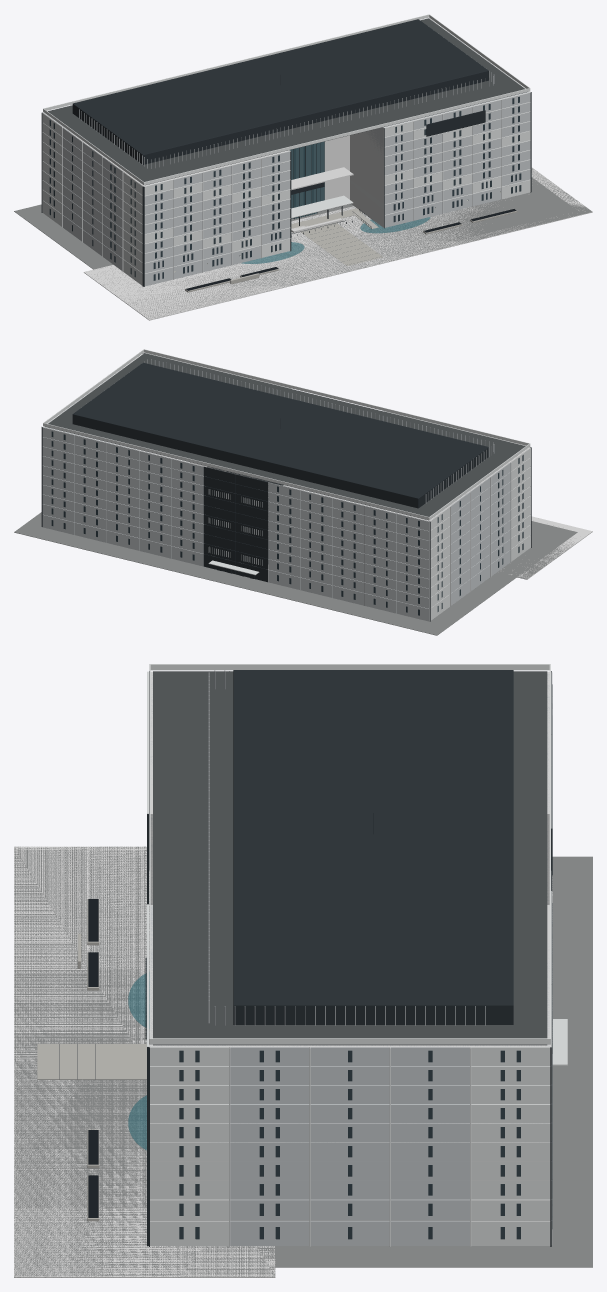
Rendered from TSMCHQ.fbx.
The picture shows the model from 3 angles, top to bottom: view 1: azimuth 30°, elevation 25°; view 2: azimuth 150°, elevation 25°; view 3: azimuth 270°, elevation 25°; orthographic projection. The views are drawn at different scales.
Visible parts, largest first — view 1: Mass_Roof_Mechanical_Screen, COL_TSMC_Entrance_Plaza, Site_Main_Entrance_Plaza, Mass_Roof_Base, Mass_Site_Reference, COL_TSMC_East_Wing, Site_Central_Approach_Axis, Roof_Parapet_Front, COL_TSMC_Atrium, Roof_Parapet_Rear, Mass_Central_Glass_Atrium, Logo_TSMC_Main_Backing (+8 smaller); view 2: Mass_Roof_Mechanical_Screen, Mass_Roof_Base, Mass_Site_Reference, Roof_Parapet_Rear, Roof_Parapet_Front, COL_TSMC_Entrance_Plaza, Site_Main_Entrance_Plaza, COL_TSMC_West_Wing, Rear_F01_Group_02_Panel, Rear_F01_Group_03_Panel, Rear_F01_Group_08_Panel, Rear_F01_Group_09_Panel (+8 smaller); view 3: Mass_Roof_Mechanical_Screen, Site_Main_Entrance_Plaza, Mass_Roof_Base, COL_TSMC_Entrance_Plaza, Mass_Site_Reference, Site_Central_Approach_Axis, COL_TSMC_East_Wing, Roof_Parapet_East, Roof_Parapet_West, East_F01_Group_03_Panel, East_F01_Group_04_Panel, East_F01_Group_02_Panel (+50 smaller).
Part boxes in pixels (bbox=[...]): Mass_Roof_Mechanical_Screen: bbox=[72, 19, 488, 164]; COL_TSMC_Entrance_Plaza: bbox=[83, 167, 592, 320]; Site_Main_Entrance_Plaza: bbox=[94, 168, 592, 319]; Mass_Roof_Base: bbox=[48, 18, 526, 185]; Mass_Site_Reference: bbox=[14, 177, 577, 269]; COL_TSMC_East_Wing: bbox=[350, 18, 529, 227]; Site_Central_Approach_Axis: bbox=[300, 222, 383, 265]; Roof_Parapet_Front: bbox=[143, 88, 529, 185]; COL_TSMC_Atrium: bbox=[324, 135, 349, 199]; Roof_Parapet_Rear: bbox=[43, 14, 429, 110]; Mass_Central_Glass_Atrium: bbox=[290, 142, 323, 207]; Logo_TSMC_Main_Backing: bbox=[426, 110, 485, 136]; Mass_Roof_Mechanical_Screen: bbox=[72, 362, 488, 508]; Mass_Roof_Base: bbox=[45, 353, 525, 520]; Mass_Site_Reference: bbox=[14, 512, 577, 635]; Roof_Parapet_Rear: bbox=[43, 423, 429, 520]; Roof_Parapet_Front: bbox=[144, 349, 530, 446]; COL_TSMC_Entrance_Plaza: bbox=[501, 516, 592, 579]; Site_Main_Entrance_Plaza: bbox=[499, 525, 591, 579]; COL_TSMC_West_Wing: bbox=[283, 447, 530, 620]; Rear_F01_Group_02_Panel: bbox=[364, 593, 396, 613]; Rear_F01_Group_03_Panel: bbox=[332, 585, 364, 605]; Rear_F01_Group_08_Panel: bbox=[171, 546, 203, 566]; Rear_F01_Group_09_Panel: bbox=[139, 538, 171, 558]; Mass_Roof_Mechanical_Screen: bbox=[233, 670, 513, 1024]; Site_Main_Entrance_Plaza: bbox=[14, 846, 275, 1277]; Mass_Roof_Base: bbox=[153, 671, 547, 1045]; COL_TSMC_Entrance_Plaza: bbox=[14, 846, 275, 1277]; Mass_Site_Reference: bbox=[33, 856, 592, 1267]; Site_Central_Approach_Axis: bbox=[37, 1044, 149, 1079]; COL_TSMC_East_Wing: bbox=[149, 905, 550, 1220]; Roof_Parapet_East: bbox=[149, 1038, 550, 1044]; Roof_Parapet_West: bbox=[149, 664, 549, 670]; East_F01_Group_03_Panel: bbox=[310, 1221, 389, 1245]; East_F01_Group_04_Panel: bbox=[391, 1221, 469, 1245]; East_F01_Group_02_Panel: bbox=[230, 1221, 309, 1245].
Size of the model in its own units: 21800 by 5904 by 12400.
